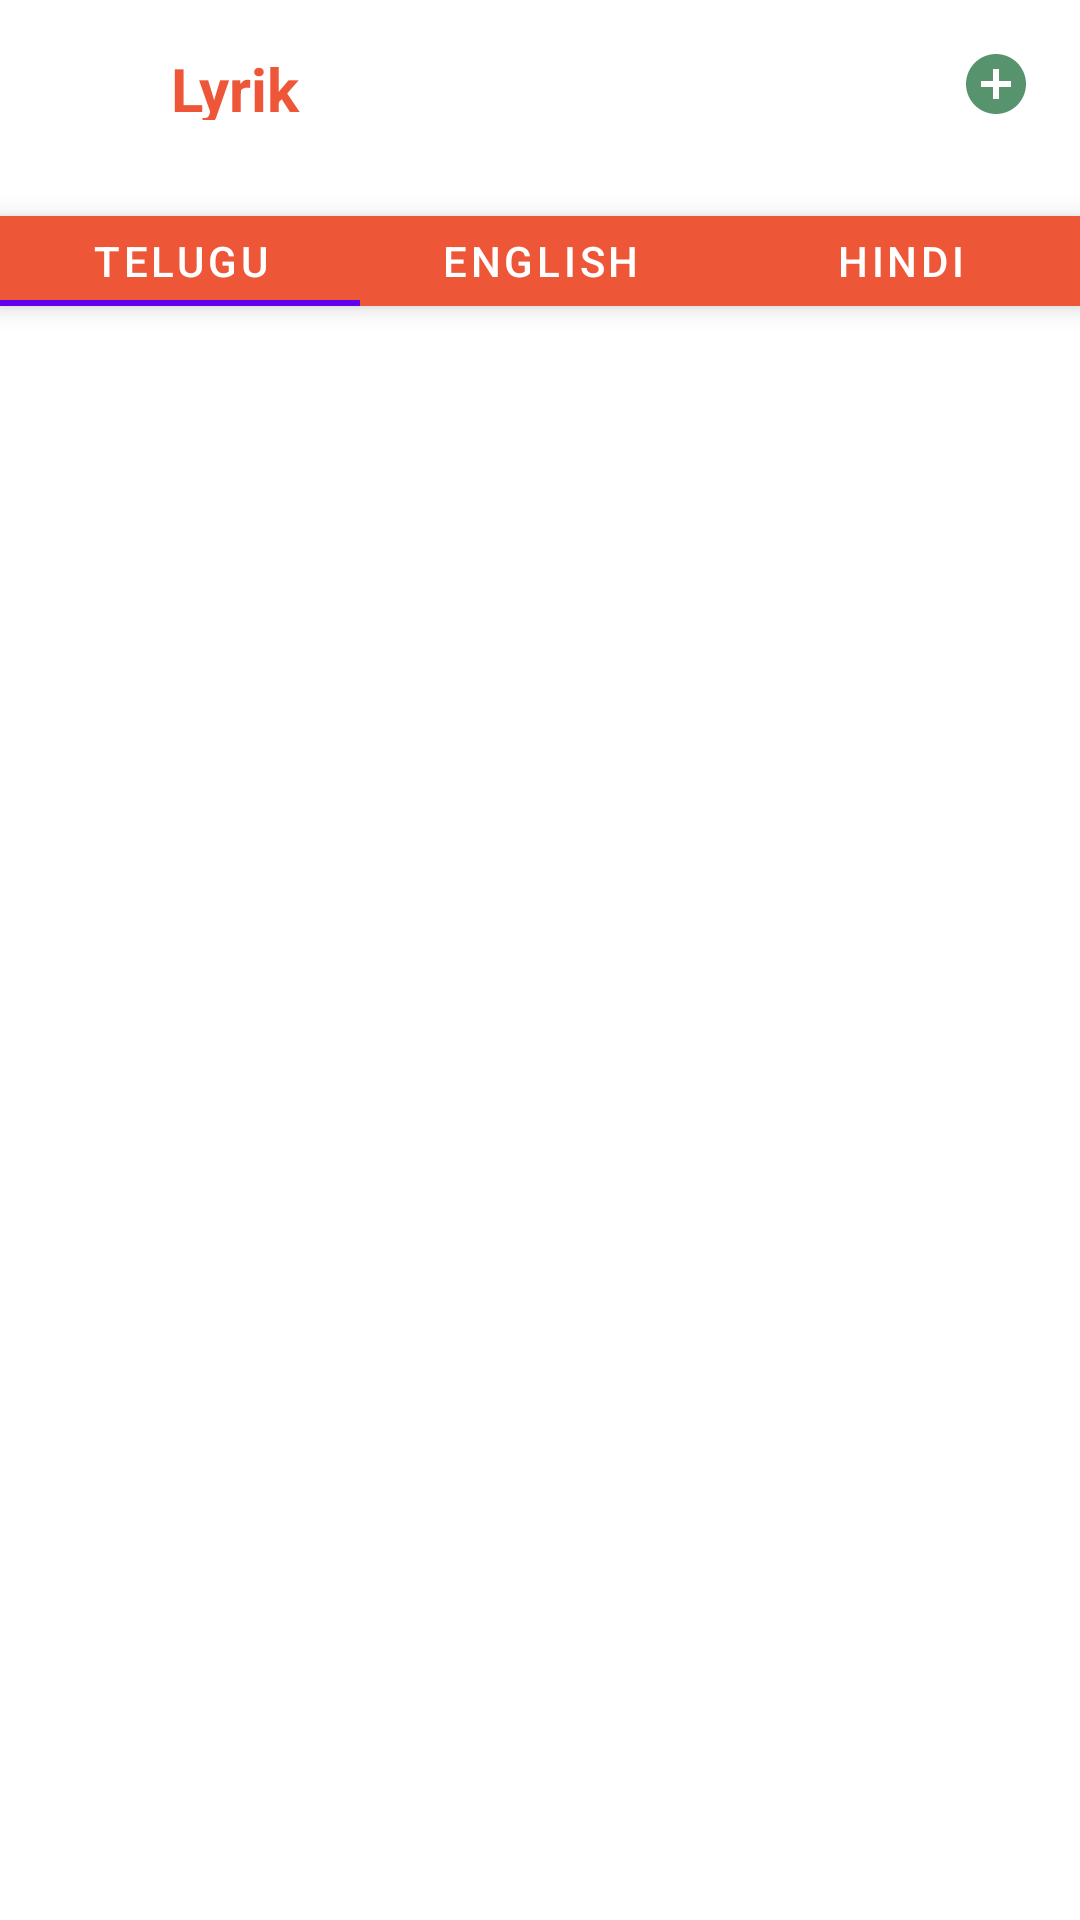

Screen size 1080*1920. Icon name, then its box in pixels as (x1, y1, x2, y2):
song add: (966, 54, 1026, 114)
